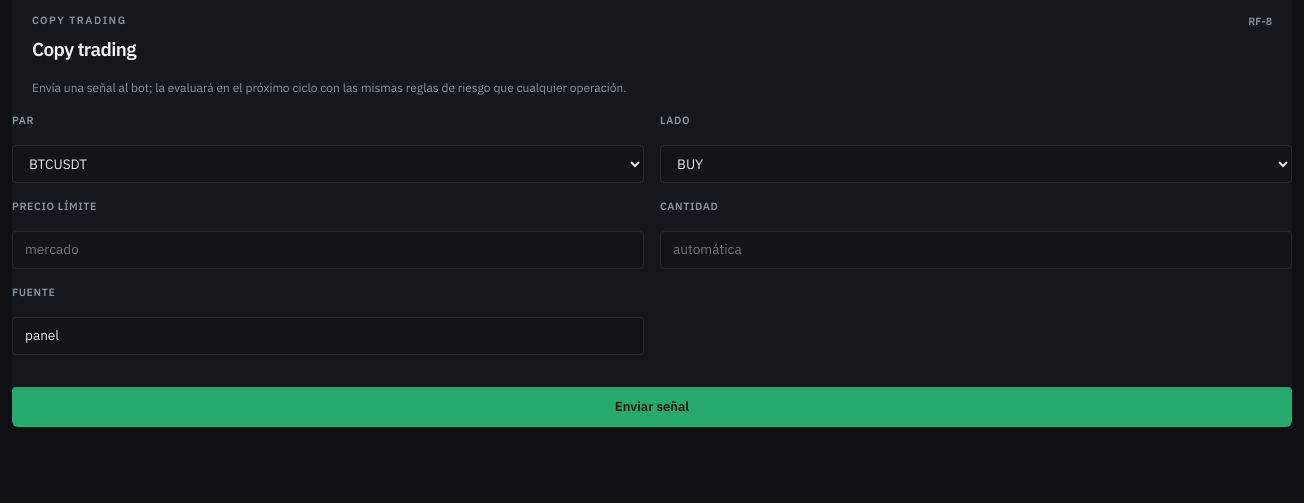
Test: ExternalSignalForm › envía la señal y muestra el resultado aceptado
Select "ETHUSDT" in the dropdown labelled "Par" at (328,164), box [12,145,644,183]
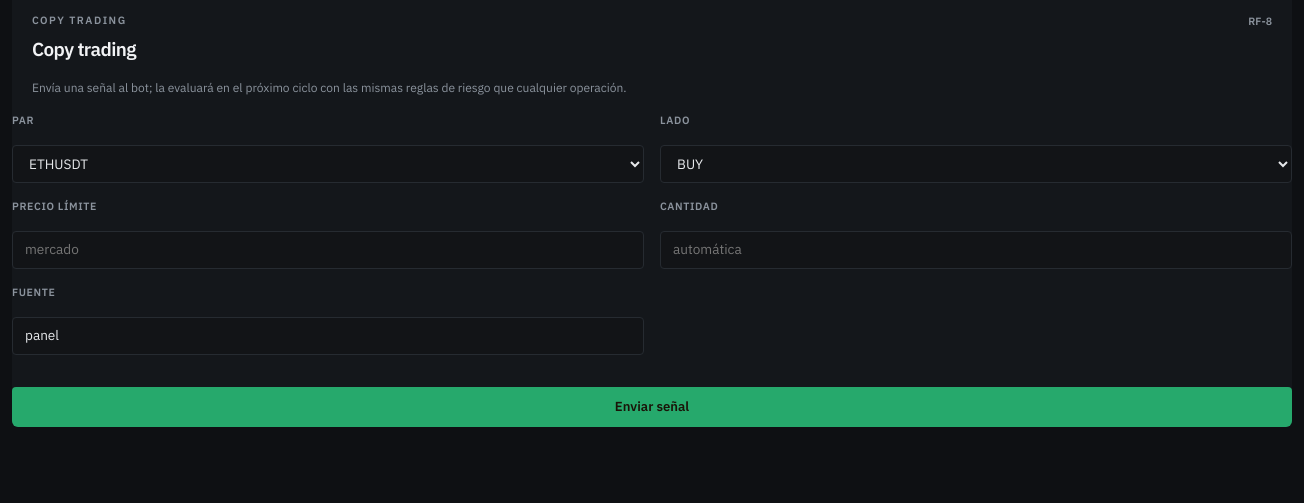
Select "SELL" in the dropdown labelled "Lado" at (976,164), box [660,145,1292,183]
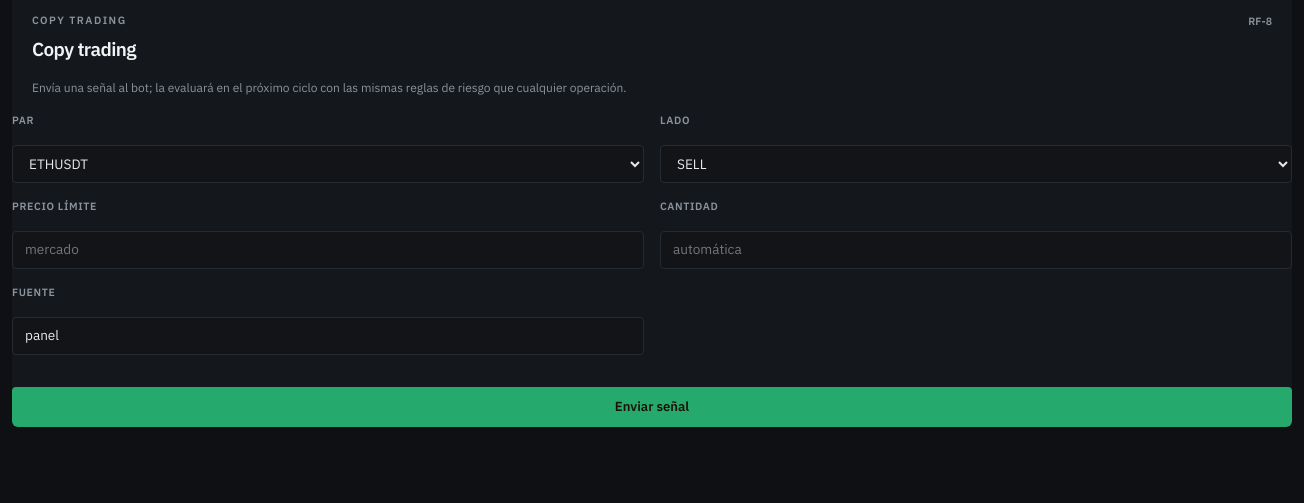
Type "2500.5" into the number field labelled "Precio límite" at (328,250), box [12,231,644,269]
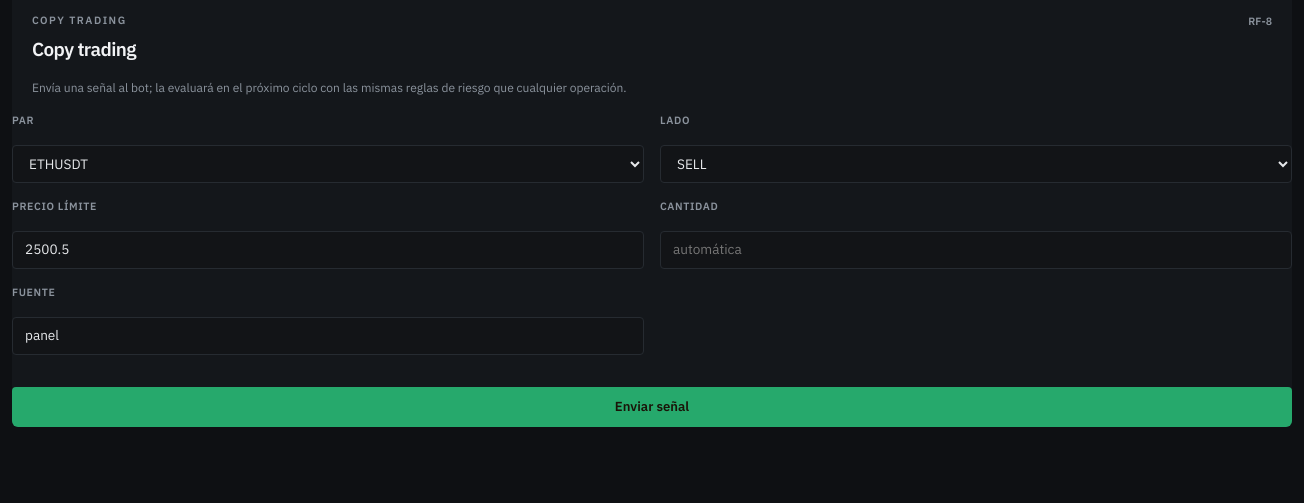
Type "1.5" into the number field labelled "Cantidad" at (976,250), box [660,231,1292,269]
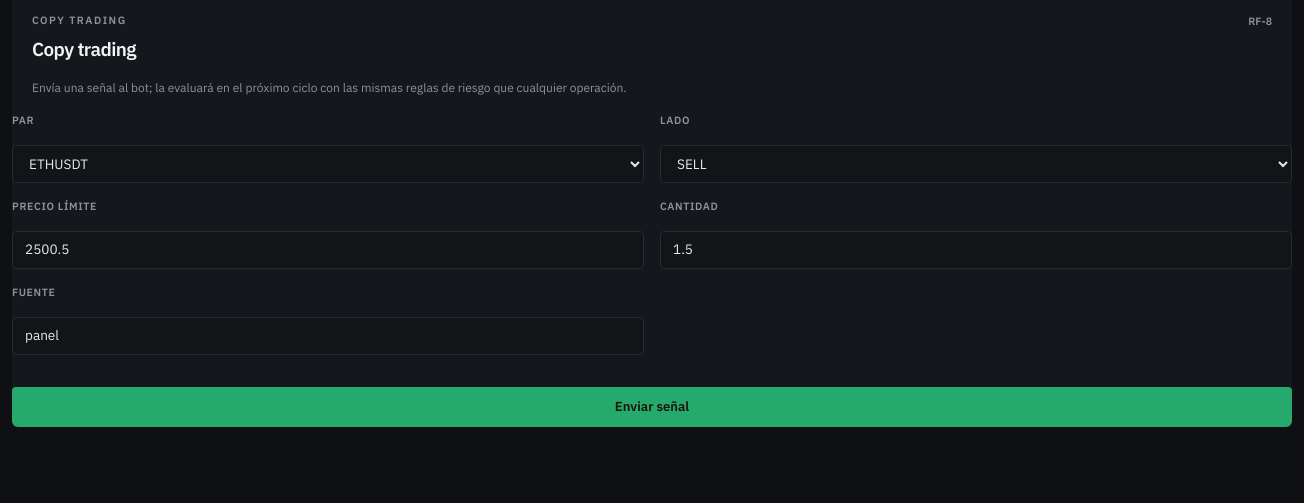
Replace the text in the field labelled "Fuente" with "copy" at (328,336), box [12,316,644,354]
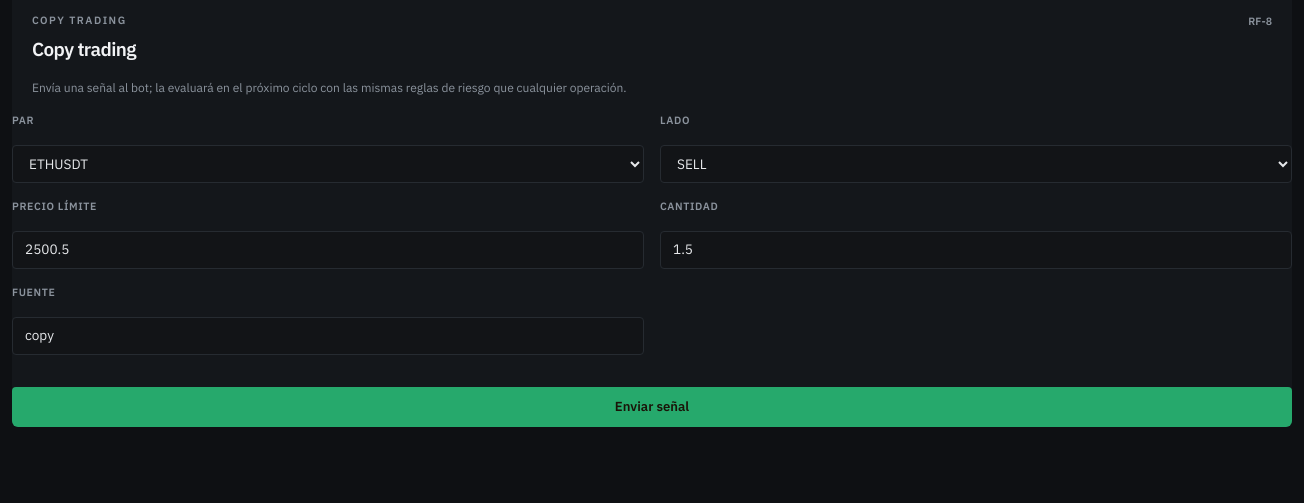
Click the button "Enviar señal" at (652,406), box [12,386,1292,426]
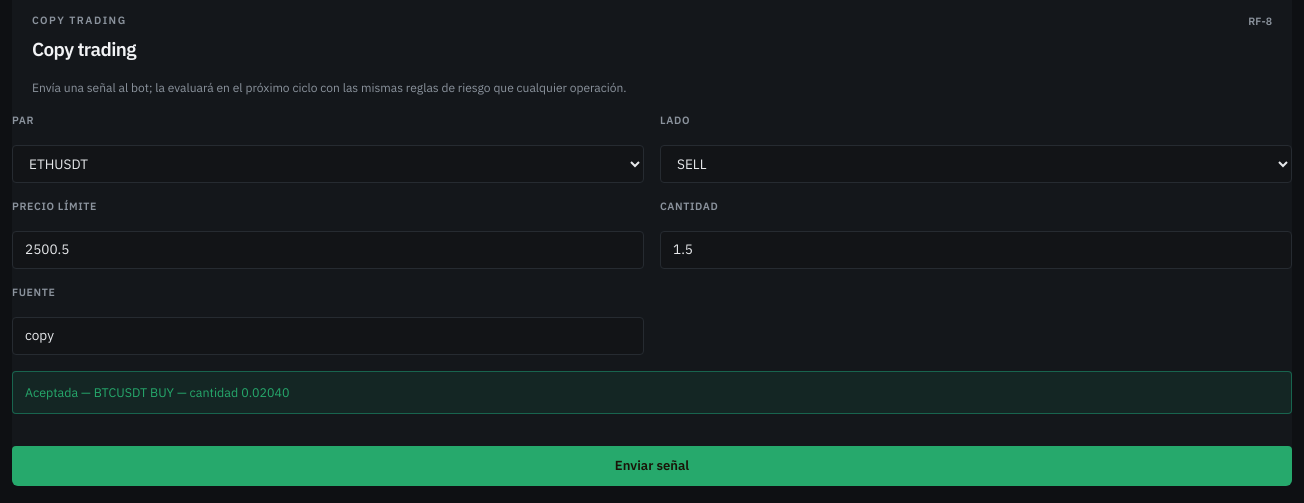
Result: the text with test id "signal-result" shows "Aceptada" at [25,384,290,400]
Result: the text with test id "signal-result" shows "0.02040" at [25,384,290,400]
